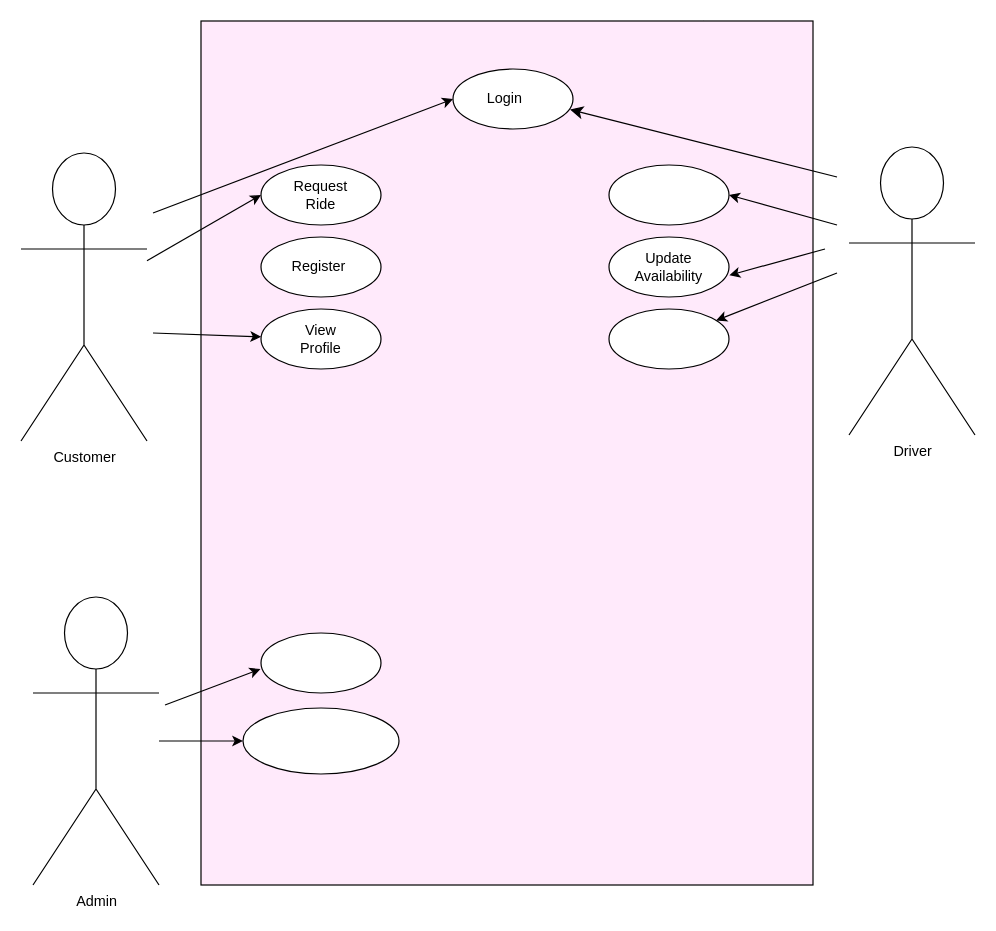
Some shapes in this 996 by 931 pixel diagram are drawn without their labels. The shapes that lost their labels are listed below. From the top down, each one's centre as x and y in pixels, then its label:
At point 668,194: "Accept Ride".
At point 668,338: "View Earnings".
At point 320,662: "Block User".
At point 320,740: "View System Analytics".
